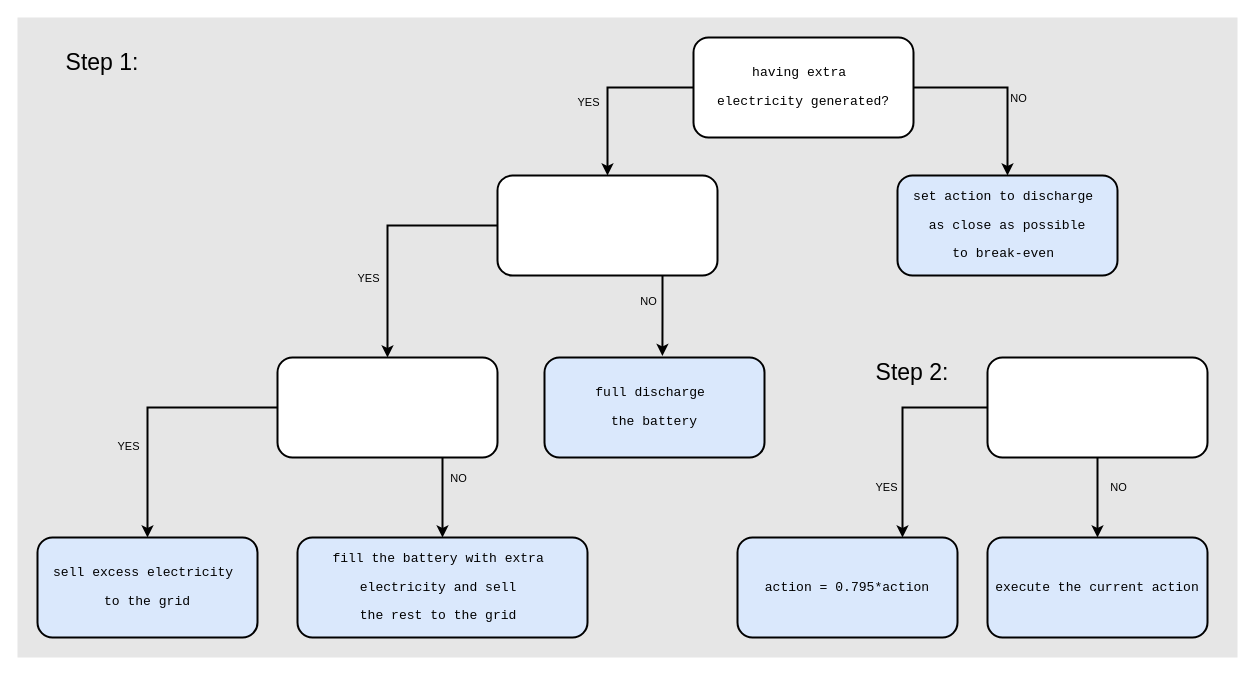
Some shapes in this 1254 by 674 pixel diagram are drawn without their labels. The box of each missing label's shape, as (x1, y1, x2, y2) in pixels:
battery is full?: (276, 356, 498, 458)
does the chosen action increase the net consumption derivative?: (986, 356, 1208, 458)
is the electricity price smaller than the known maximal price?: (496, 174, 718, 276)
